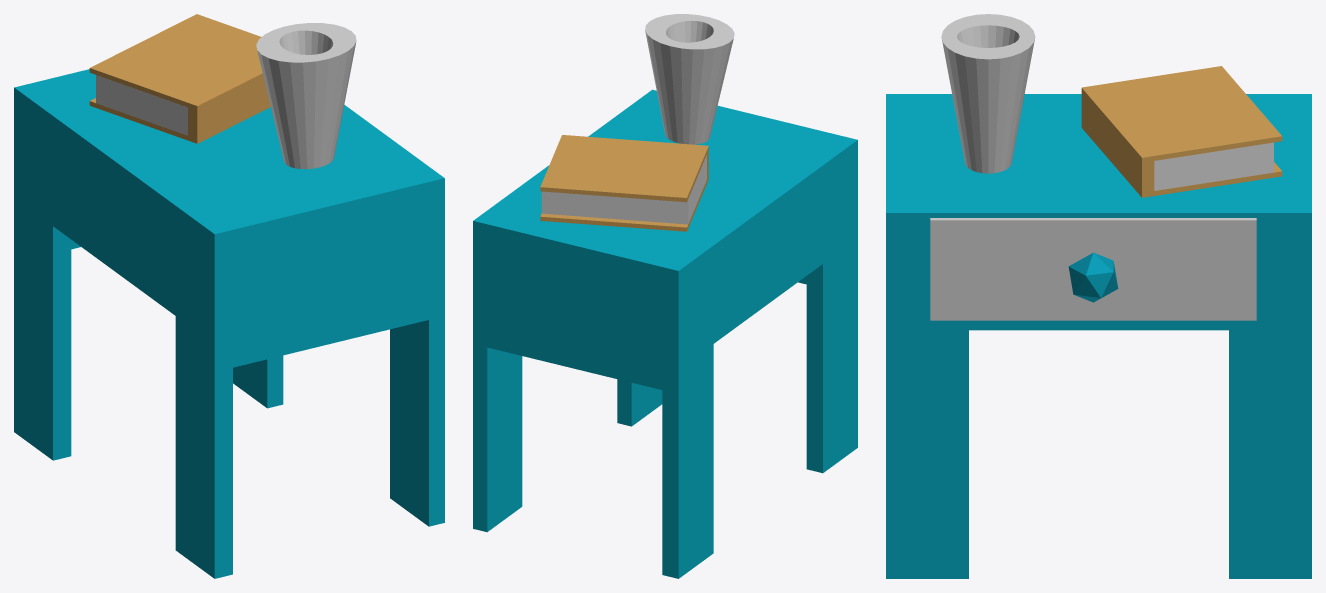
File: PROJECT 149.glb
3 renders of one model, left to right at view 1: azimuth 30°, elevation 25°; view 2: azimuth 150°, elevation 25°; view 3: azimuth 270°, elevation 25°, orthographic. The views are drawn at different scales.
Visible parts, largest first — view 1: Mesh_Mesh_head_geo.001_lambert2SG.001; view 2: Mesh_Mesh_head_geo.001_lambert2SG.001; view 3: Mesh_Mesh_head_geo.001_lambert2SG.001.
Part boxes in pixels (bbox=[...]): Mesh_Mesh_head_geo.001_lambert2SG.001: bbox=[14, 14, 444, 578]; Mesh_Mesh_head_geo.001_lambert2SG.001: bbox=[473, 14, 857, 578]; Mesh_Mesh_head_geo.001_lambert2SG.001: bbox=[886, 14, 1311, 578].
Size of the model in its own units: 59 by 99 by 77.
